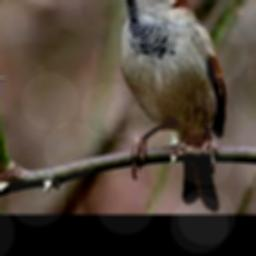Sparrow: (103, 0, 225, 211)
